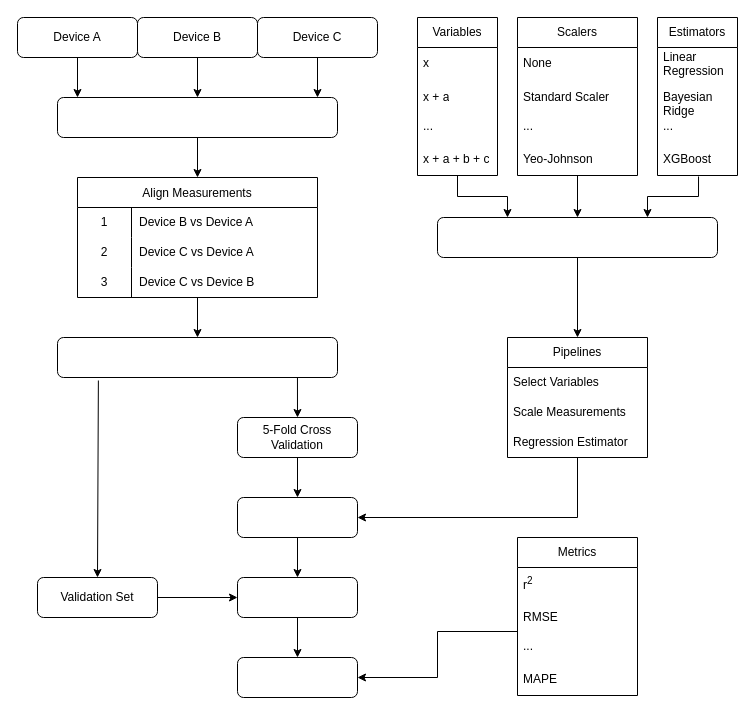
Image size: 755x715. Some labels were removed from this diagram. The centre of each missing label's shape, as x and y in pixels:
10 % Validation, 90 % Train/Test: point 197,357
Aggregate: point 197,117
Calculate Error Metrics: point 297,677
Create All Possible Pipeline Combinations: point 577,237
Fit pipelines to training sets: point 297,517
Predictions on Validation Set: point 297,597
